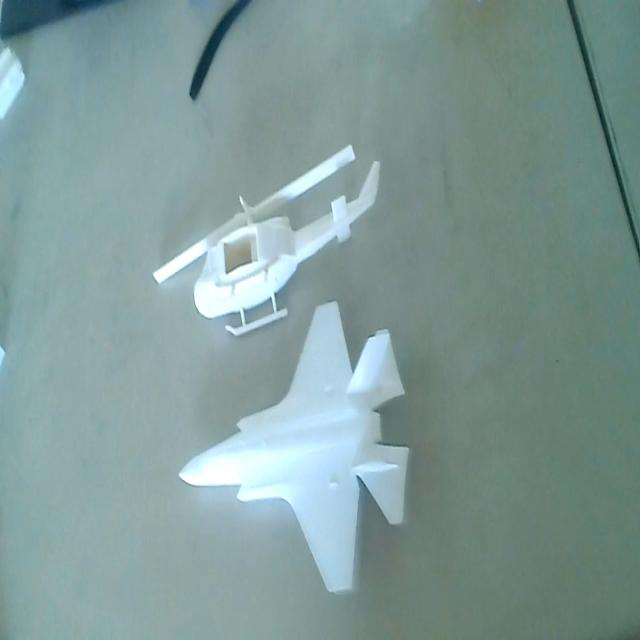Helicopter: (147, 137, 383, 336)
Jet: (177, 298, 409, 598)
